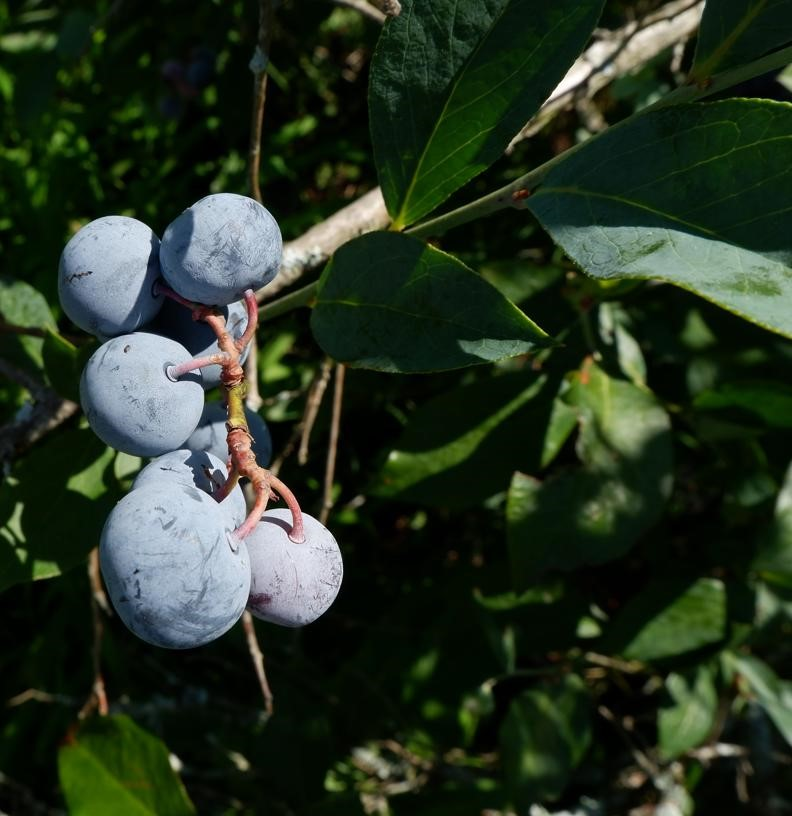Mature: (100, 482, 249, 648), (78, 332, 207, 457), (160, 194, 283, 310), (58, 213, 169, 338), (133, 283, 253, 387), (247, 508, 344, 629), (130, 451, 246, 529), (174, 399, 269, 468)
